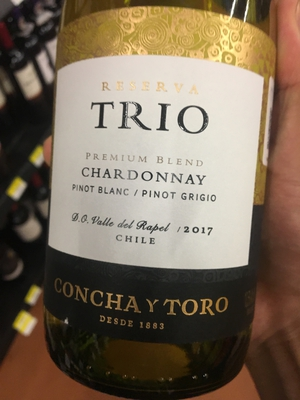trio chardonnay: (37, 7, 278, 379)
